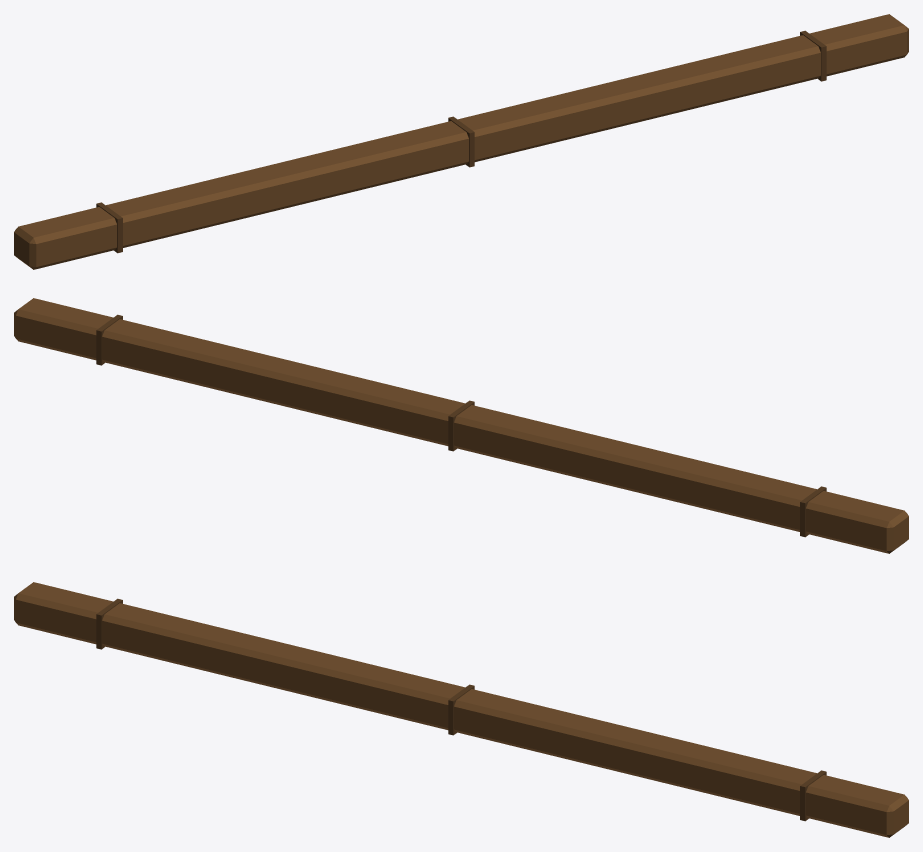
File: PlotRail.glb
The picture shows the model from 3 angles, top to bottom: view 1: azimuth 30°, elevation 25°; view 2: azimuth 150°, elevation 25°; view 3: azimuth 330°, elevation 25°; orthographic projection.
Visible parts, largest first — view 1: Body; view 2: Body; view 3: Body.
Part boxes in pixels (left/top/right/bottom): Body: left=14, top=14, right=908, bottom=269; Body: left=14, top=298, right=908, bottom=553; Body: left=14, top=582, right=908, bottom=837.
Size of the model in its own units: 10 by 0.37 by 0.42.
